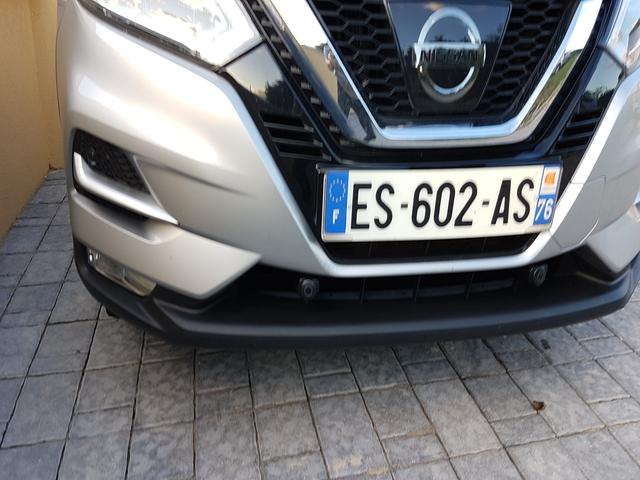Quashqai: (281, 134, 605, 261)
